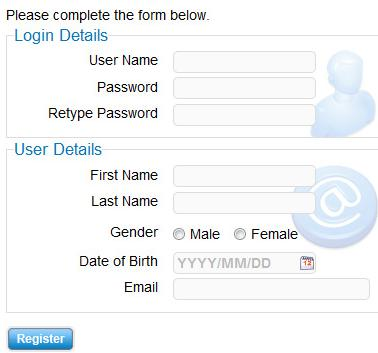button: (7, 327, 75, 351)
field: (172, 278, 371, 301), (172, 250, 316, 275), (171, 164, 317, 188), (172, 50, 316, 74), (172, 103, 316, 127), (172, 191, 316, 215), (172, 77, 316, 99)
field_with_label: (48, 101, 317, 128), (123, 276, 373, 302), (80, 249, 318, 276), (89, 48, 317, 75), (90, 162, 318, 189), (90, 189, 317, 216), (97, 76, 317, 101)
radio: (232, 227, 248, 242), (171, 226, 185, 241)
radio_with_label: (112, 223, 185, 242), (229, 225, 298, 243), (168, 224, 219, 242)
